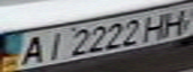2: (66, 25, 93, 58), (87, 21, 112, 55), (121, 16, 148, 47), (106, 19, 130, 51)
A: (12, 33, 51, 66)
H: (154, 6, 193, 37), (136, 11, 175, 42)
I: (39, 29, 69, 61)
